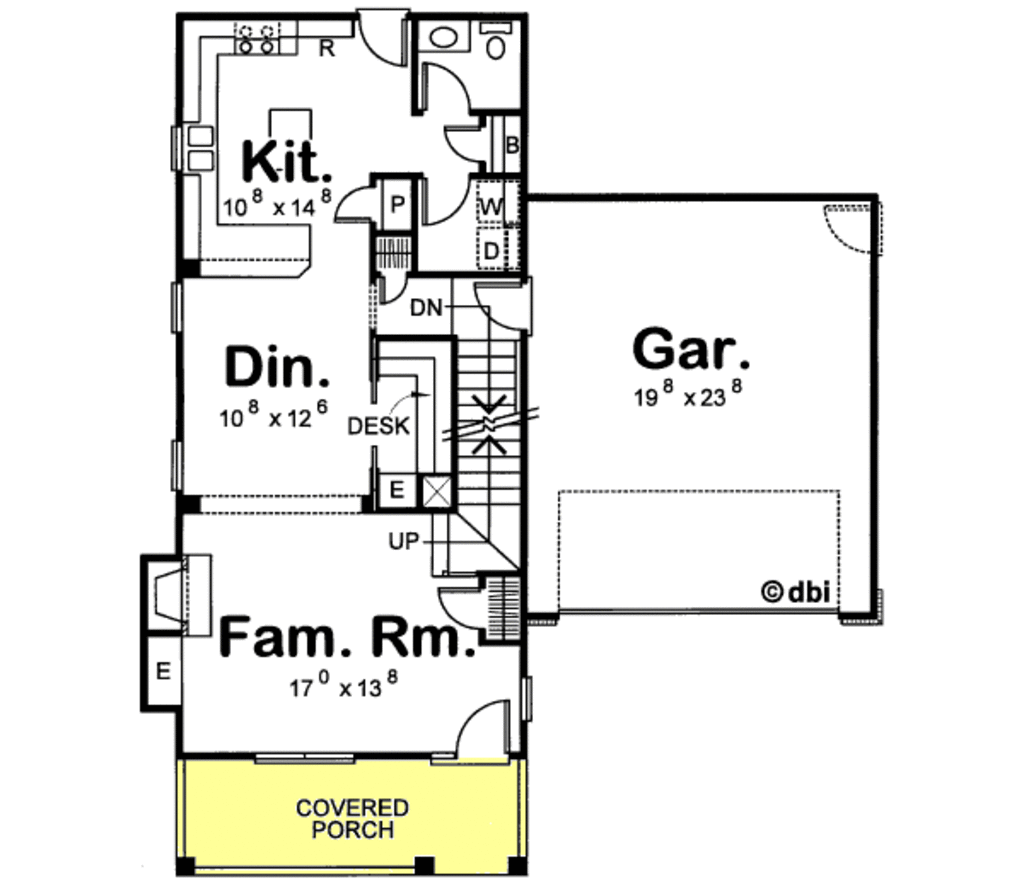door: (435, 686, 514, 769), (352, 2, 417, 73), (468, 276, 537, 337), (824, 199, 890, 255), (324, 178, 386, 228), (422, 59, 475, 115), (439, 109, 491, 165), (418, 166, 468, 224), (437, 582, 487, 631), (369, 267, 414, 311)
large_sink: (474, 16, 513, 66)
small_sink: (423, 17, 472, 51)
stairs: (434, 312, 533, 580)
twin_sink: (181, 124, 235, 175)
window: (247, 747, 371, 764), (163, 274, 186, 353), (168, 434, 189, 503)
